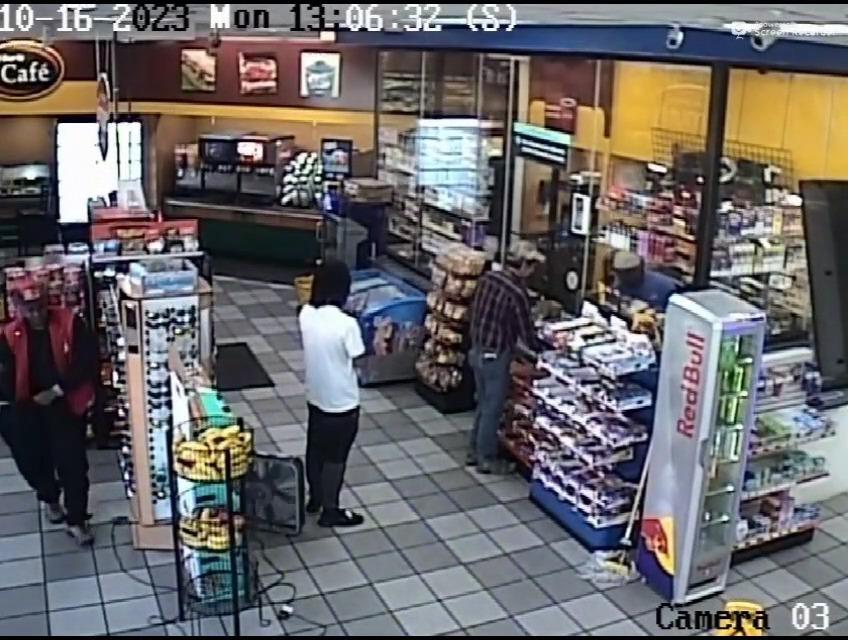Normal: (292, 255, 378, 534), (472, 239, 545, 478)
shoplifting: (0, 261, 103, 529)
